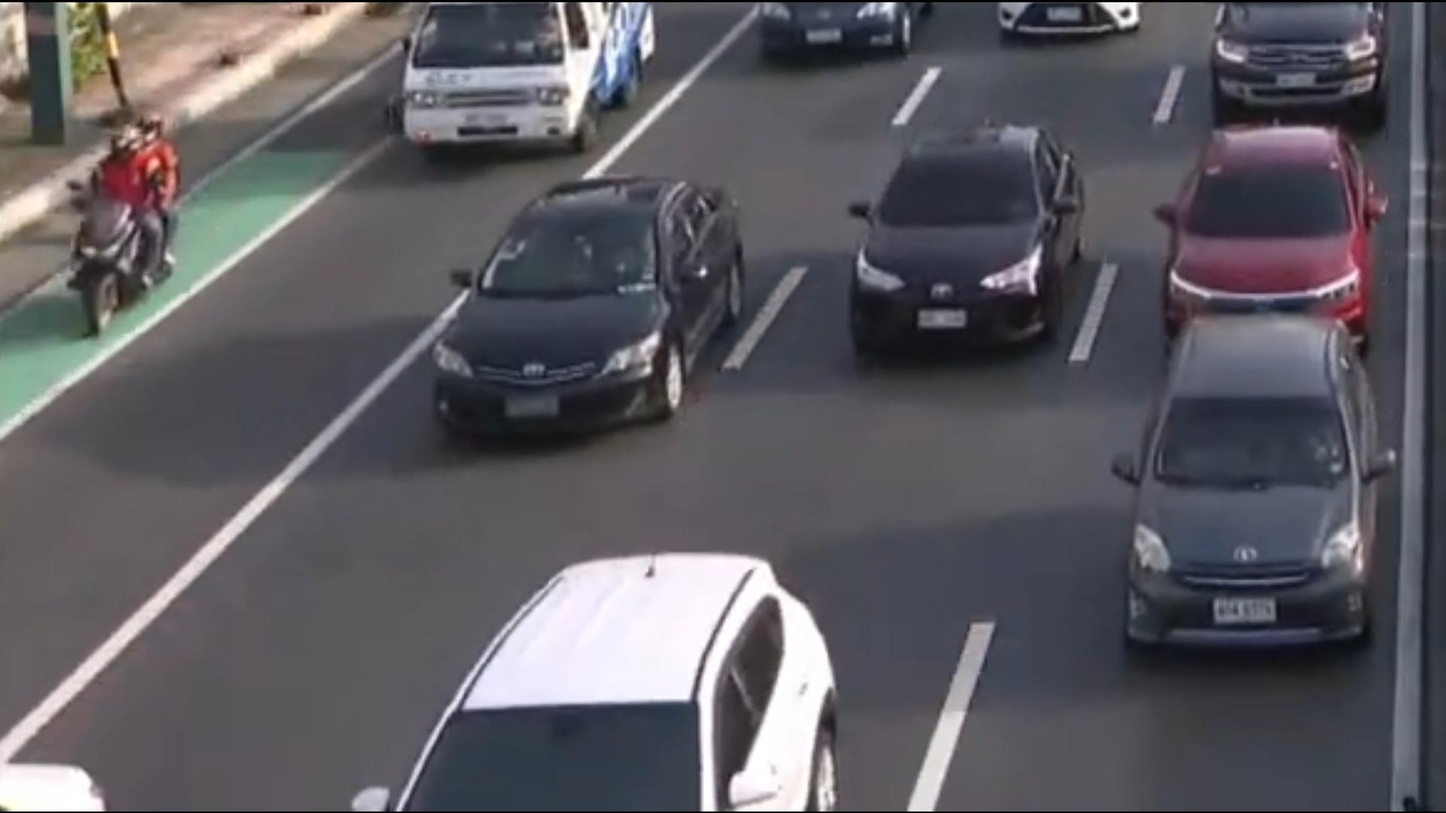Motorcycle: (66, 105, 179, 343)
SUV: (347, 551, 845, 813), (1117, 321, 1394, 664), (1209, 0, 1396, 111)
Sedan: (425, 175, 746, 438), (838, 129, 1095, 359), (1152, 122, 1389, 350)
Truck: (382, 0, 661, 152)
